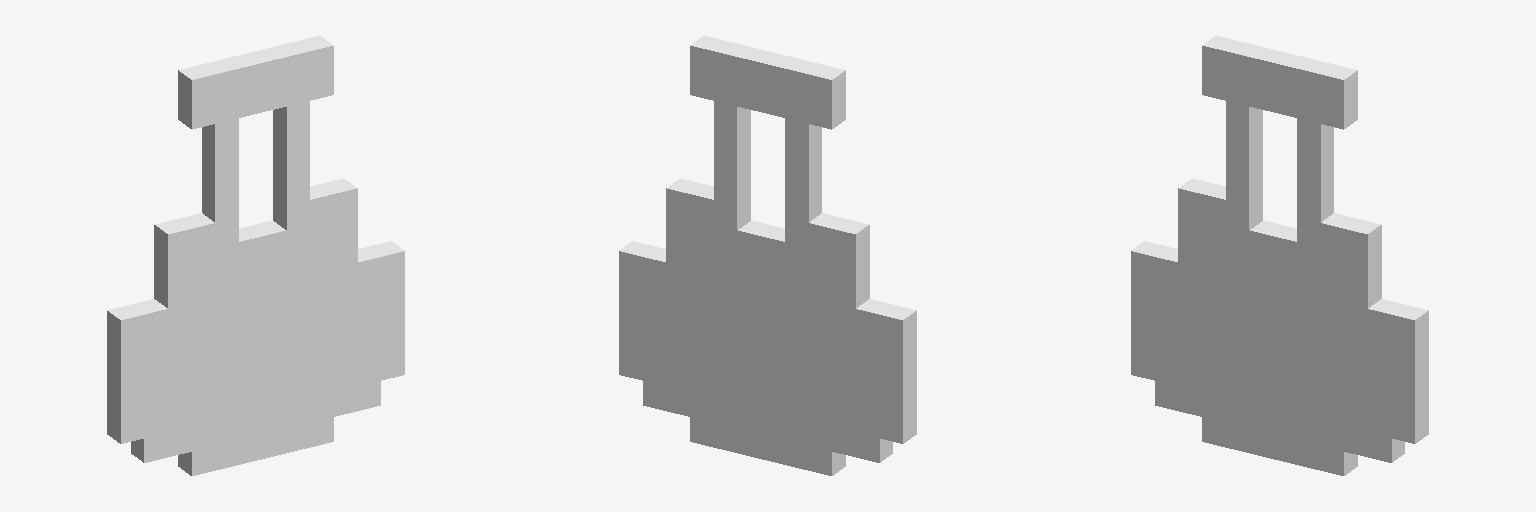
Rendered from speed-potion.obj.
The picture shows the model from 3 angles: view 1: azimuth 30°, elevation 25°; view 2: azimuth 150°, elevation 25°; view 3: azimuth 330°, elevation 25°; orthographic projection.
Parts seen in each view (by area): view 1: speed-potion; view 2: speed-potion; view 3: speed-potion.
Boxes of the visible parts, x1=… form: speed-potion: x1=107, y1=36, x2=404, y2=475; speed-potion: x1=619, y1=36, x2=916, y2=475; speed-potion: x1=1131, y1=36, x2=1428, y2=475.
Bounding box in the file's own units: 1.2 × 1.6 × 0.1.